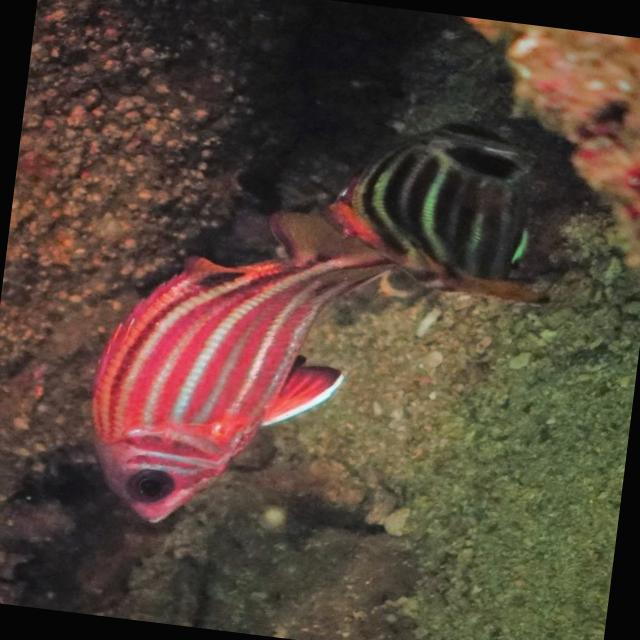Asker Baligi: (46, 176, 419, 568)
